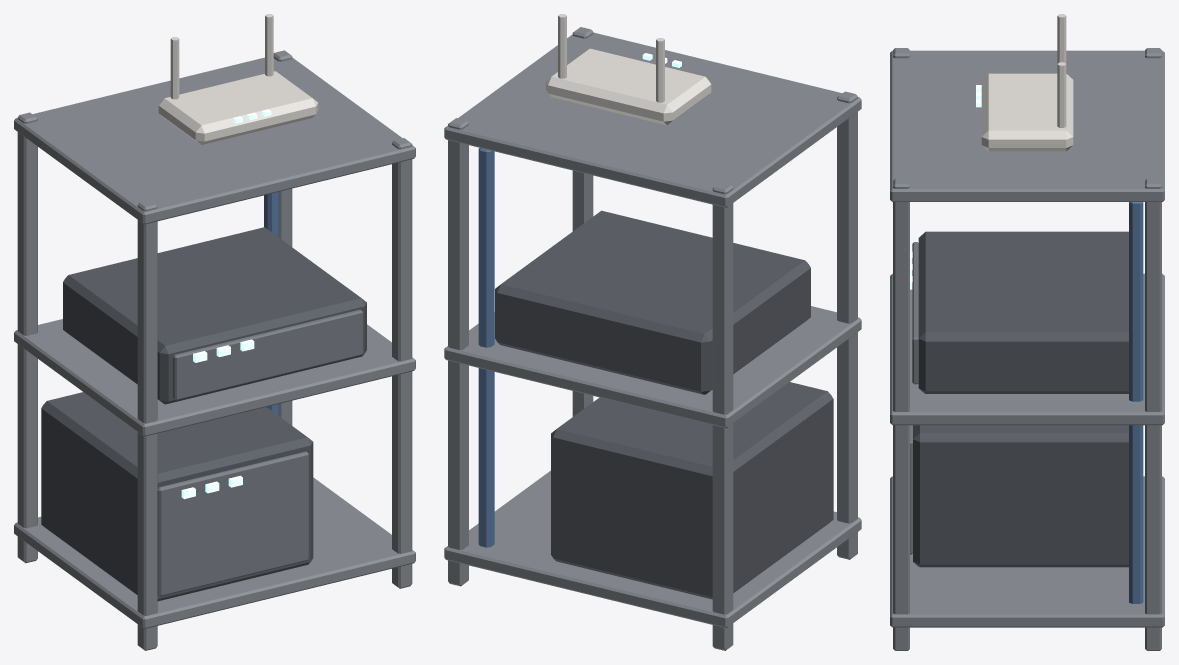
File: server_shelf.glb
The picture shows the model from 3 angles, left to right: view 1: azimuth 30°, elevation 25°; view 2: azimuth 150°, elevation 25°; view 3: azimuth 270°, elevation 25°; orthographic projection. The views are drawn at different scales.
Visible parts, largest first — view 1: ServerShelf, Leds; view 2: ServerShelf; view 3: ServerShelf.
Boxes of the visible parts, <box> form: ServerShelf: <box>14,14,415,650</box>; Leds: <box>181,109,271,499</box>; ServerShelf: <box>444,14,861,650</box>; ServerShelf: <box>890,14,1164,650</box>.
Size of the model in its own units: 0.58 by 1.07 by 0.48.
